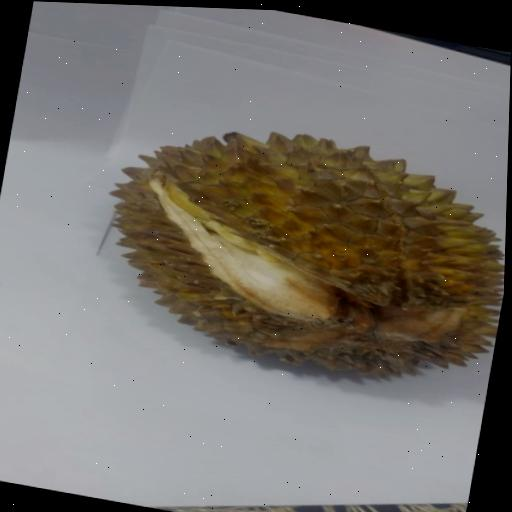rot: (53, 84, 510, 416)
